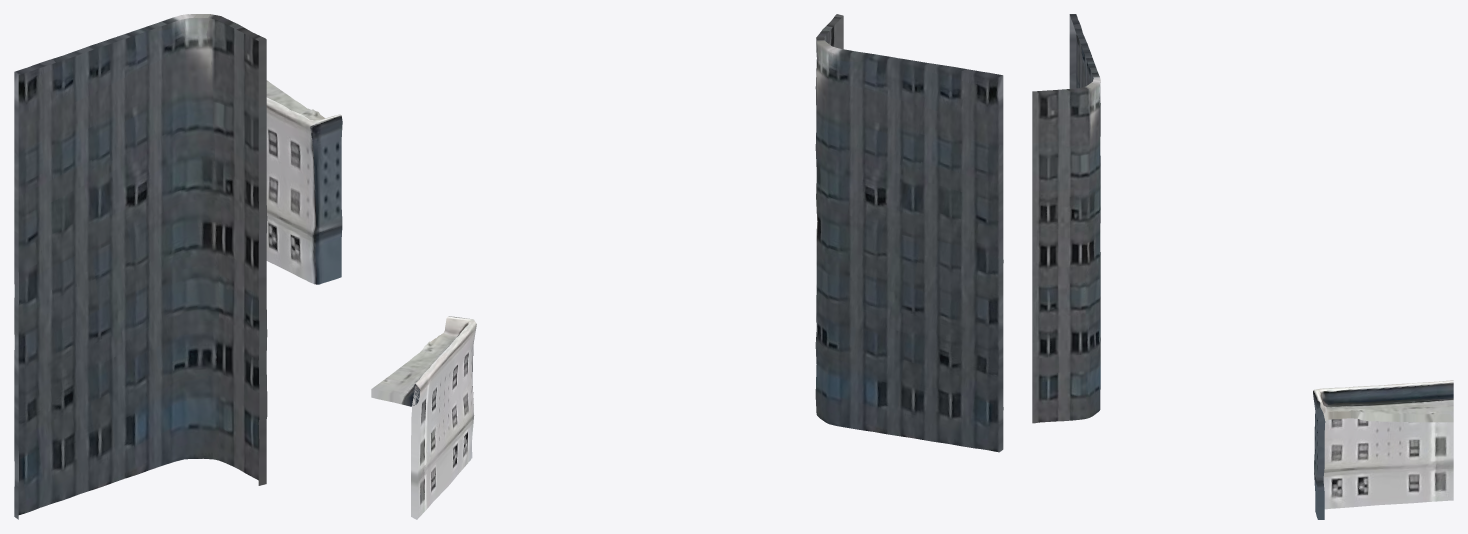
File: z20-167748-405241-h1-yup-uvflip-v3-world.glb
3 renders of one model, left to right at view 1: azimuth 30°, elevation 25°; view 2: azimuth 150°, elevation 25°; view 3: azimuth 270°, elevation 25°, orthographic. The views are drawn at different scales.
Size of the model in its own units: 30.16 by 26.12 by 30.32.
1 material, 1 textured.
